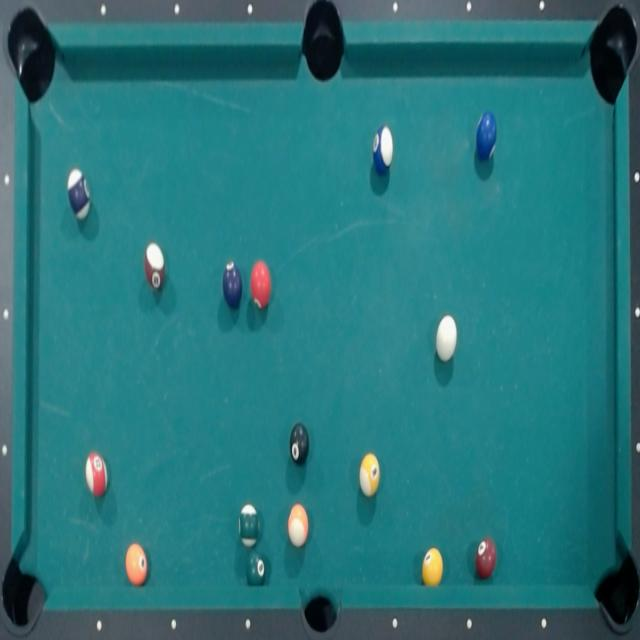black_8ball: (288, 422, 311, 466)
blue_solid: (474, 109, 499, 162)
blue_stripe: (369, 124, 395, 177)
cue_ball: (432, 312, 459, 367)
green_solid: (247, 552, 267, 586)
green_stripe: (238, 503, 260, 548)
maroon_solid: (474, 536, 498, 579)
maroon_stripe: (142, 241, 166, 292)
orange_solid: (124, 541, 150, 586)
orange_stripe: (286, 502, 310, 549)
purple_solid: (221, 260, 244, 310)
purple_stripe: (65, 167, 92, 220)
red_solid: (249, 260, 272, 310)
red_stripe: (84, 450, 110, 500)
yellow_solid: (421, 546, 444, 587)
yellow_stripe: (359, 450, 380, 501)
